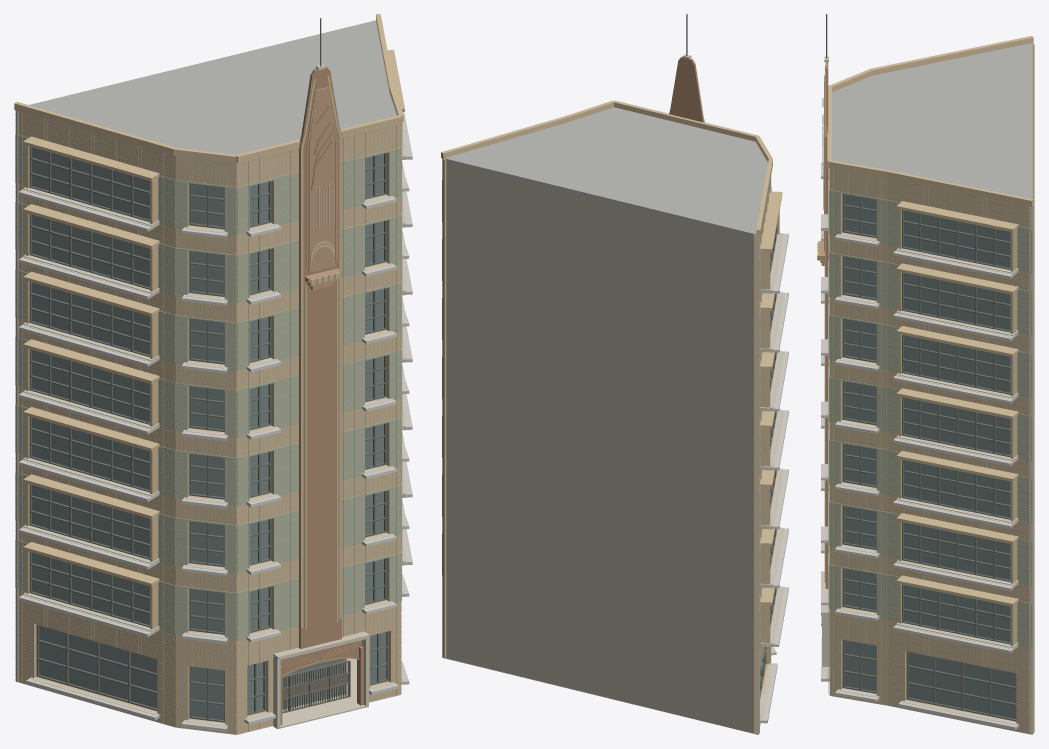
The model's file is huangpu-astrid-apartments-corner-raw.glb.
3 views of the same model, side by side, from view 1: azimuth 30°, elevation 25°; view 2: azimuth 150°, elevation 25°; view 3: azimuth 270°, elevation 25° (orthographic). The views are drawn at different scales.
Parts seen in each view (by area): view 1: 南昌大楼（阿斯屈来特公寓）街角入口; view 2: 南昌大楼（阿斯屈来特公寓）街角入口; view 3: 南昌大楼（阿斯屈来特公寓）街角入口.
Boxes of the visible parts, box(x1,y1,x2,y2) form: 南昌大楼（阿斯屈来特公寓）街角入口: box(14, 14, 412, 734); 南昌大楼（阿斯屈来特公寓）街角入口: box(441, 14, 788, 734); 南昌大楼（阿斯屈来特公寓）街角入口: box(817, 14, 1034, 734).
Bounding box in the file's own units: 19.27 × 33.47 × 10.24.
